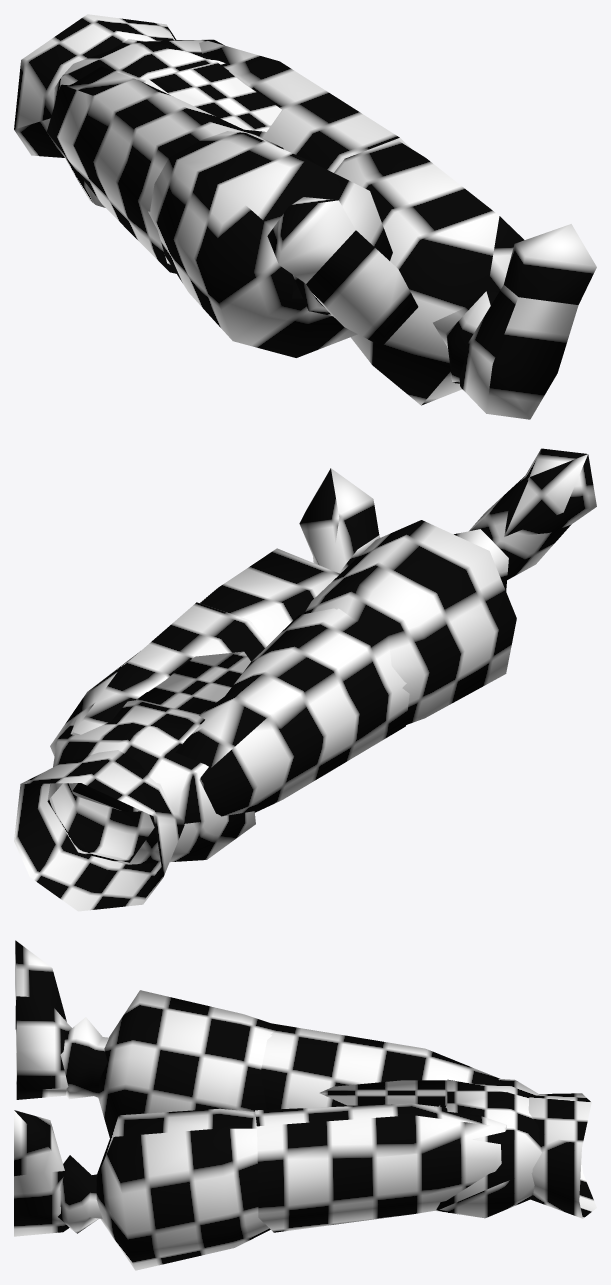
Rendered from initarlg14.dae.
3 views of the same model, one above another, from view 1: azimuth 30°, elevation 25°; view 2: azimuth 150°, elevation 25°; view 3: azimuth 270°, elevation 25° (orthographic). The views are drawn at different scales.
Parts seen in each view (by area): view 1: armor; view 2: armor; view 3: armor.
Part boxes in pixels (left/top/right/bottom): armor: left=14, top=14, right=596, bottom=419; armor: left=14, top=448, right=596, bottom=911; armor: left=14, top=940, right=596, bottom=1270.
Bounding box in the file's own units: 0.8306 × 1.64 × 0.7283.
Materials: 1 (1 with a texture image).
